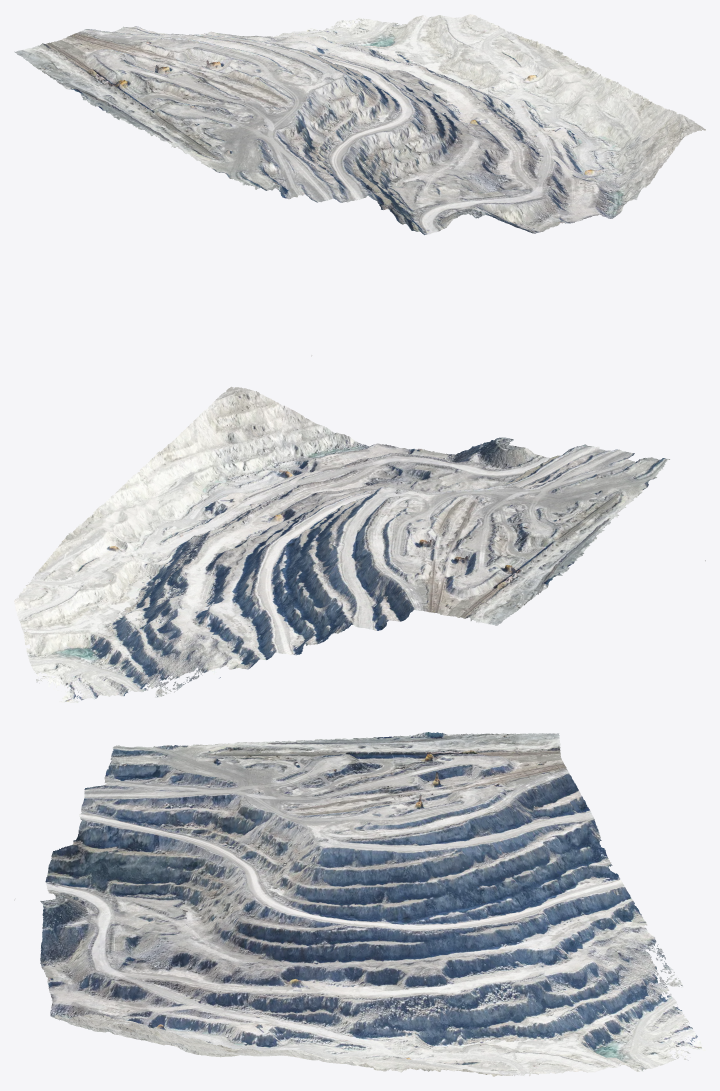
Rendered from quarry.glb.
3 renders of one model, top to bottom at view 1: azimuth 30°, elevation 25°; view 2: azimuth 150°, elevation 25°; view 3: azimuth 270°, elevation 25°, orthographic. The views are drawn at different scales.
Visible parts, largest first — view 1: Object_2; view 2: Object_2; view 3: Object_2.
Part boxes in pixels (x1,y1,x2,y2): Object_2: (14, 14, 705, 356); Object_2: (14, 386, 705, 703); Object_2: (14, 732, 705, 1076).
Size of the model in its own units: 790 by 215 by 895.
1 material, 1 textured.
